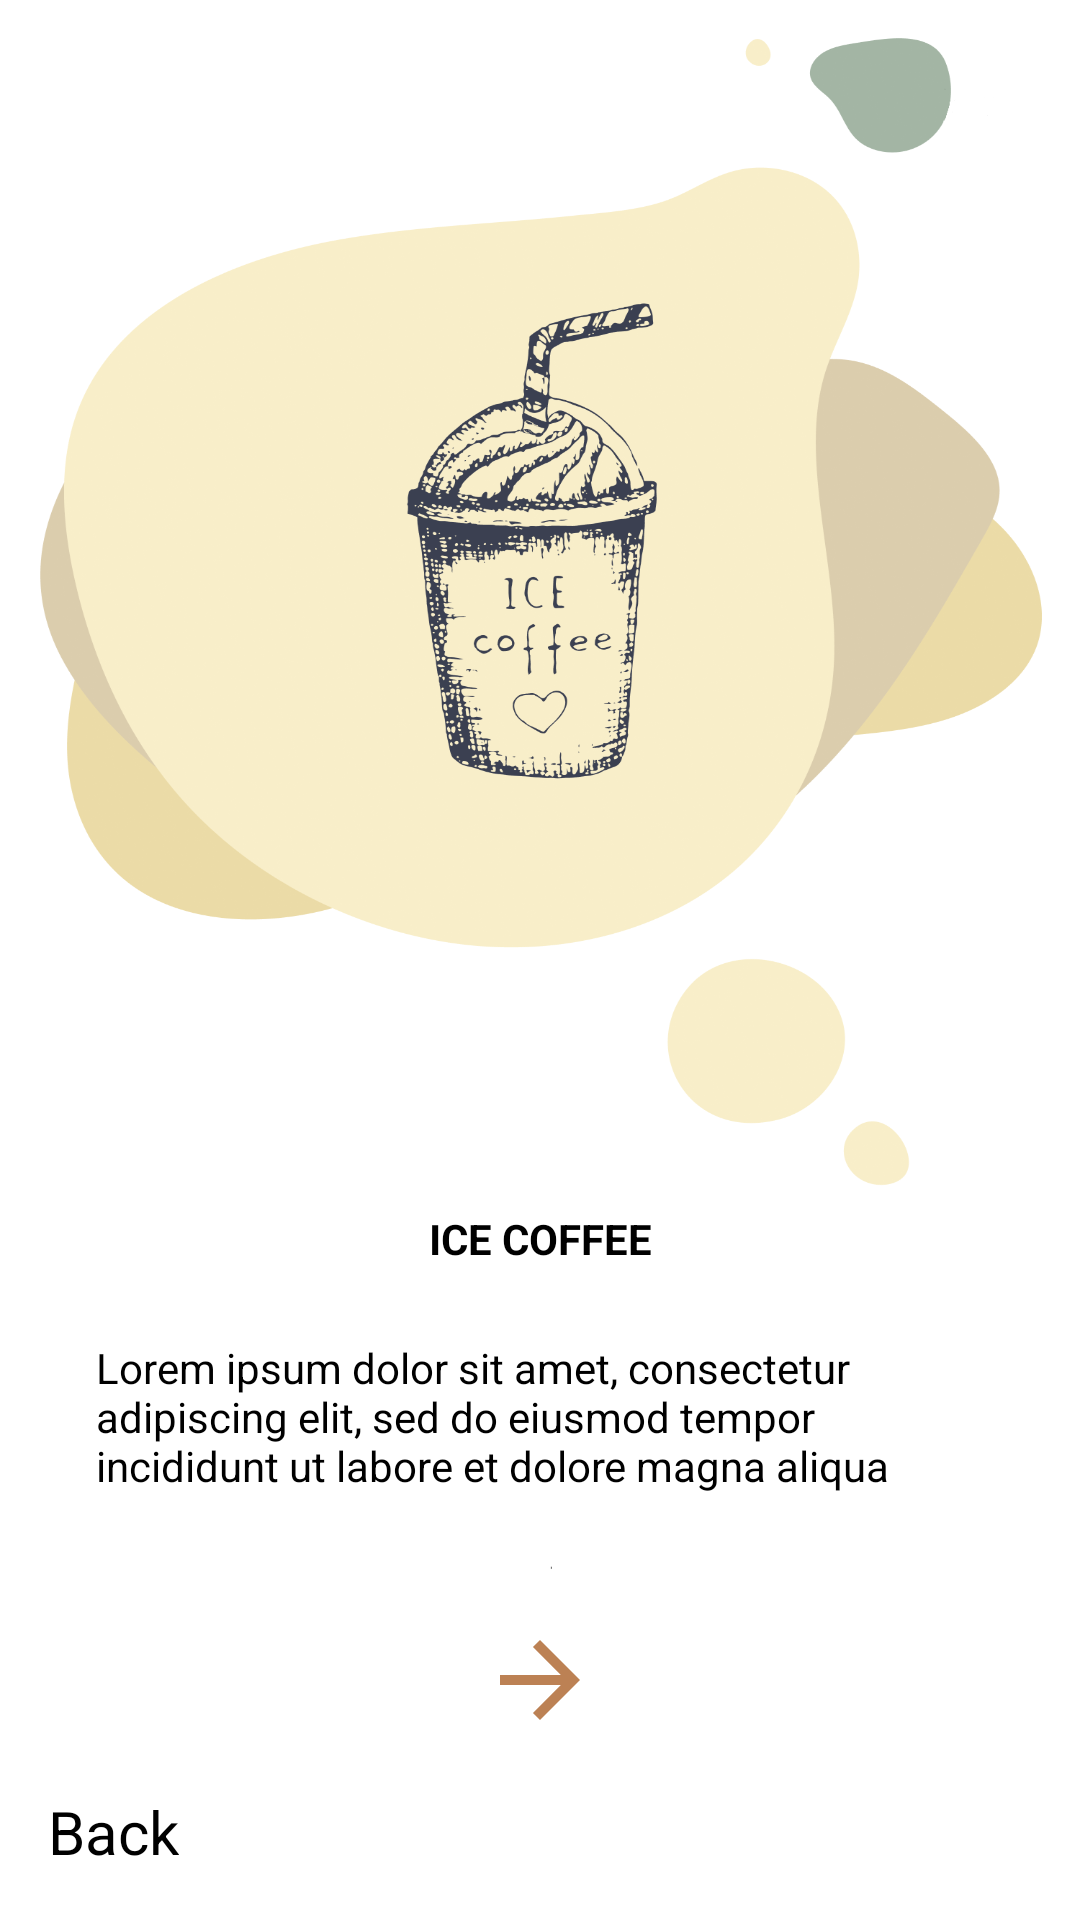

Where icons sit on this 1080px x 1920px app screen, as (x1=x1, y1=y1, x2=x2, y2=y2):
arrow forward: (x1=500, y1=1640, x2=580, y2=1720)
